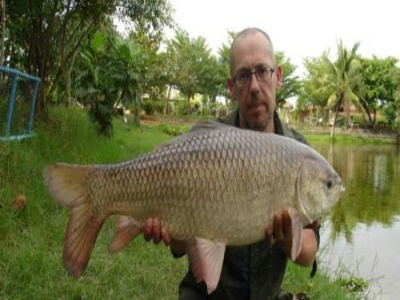rohu: (36, 120, 351, 287)
